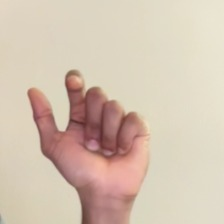T: (18, 56, 169, 212)
